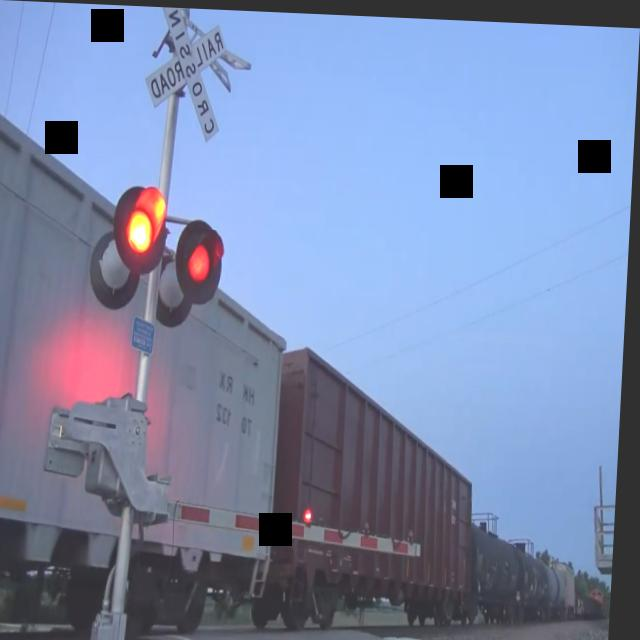gondola: (0, 101, 299, 635), (271, 330, 493, 636)
